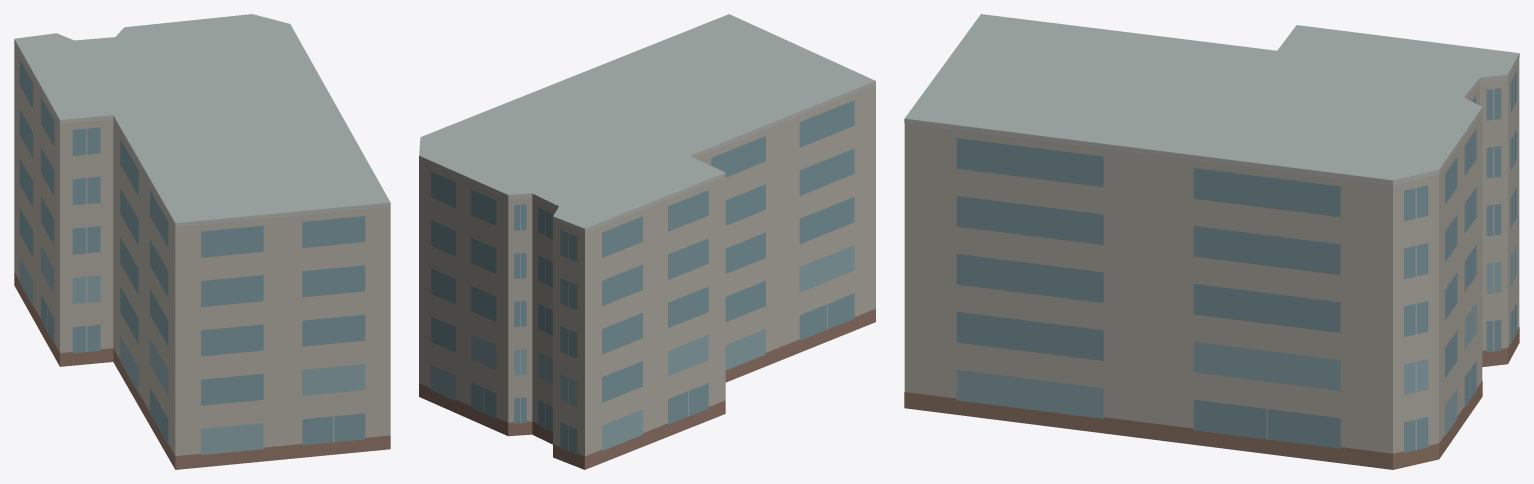
Rendered from survey-upis-32943453.glb.
3 renders of one model, left to right at view 1: azimuth 30°, elevation 25°; view 2: azimuth 150°, elevation 25°; view 3: azimuth 270°, elevation 25°, orthographic. The views are drawn at different scales.
Parts seen in each view (by area): view 1: survey-upis-32943453.tmp; view 2: survey-upis-32943453.tmp; view 3: survey-upis-32943453.tmp.
Boxes of the visible parts, x1,y1,x2,y2 form: survey-upis-32943453.tmp: (14, 14, 390, 469); survey-upis-32943453.tmp: (419, 14, 875, 469); survey-upis-32943453.tmp: (904, 14, 1519, 469).
Bounding box in the file's own units: 18.43 × 14.95 × 28.79.
